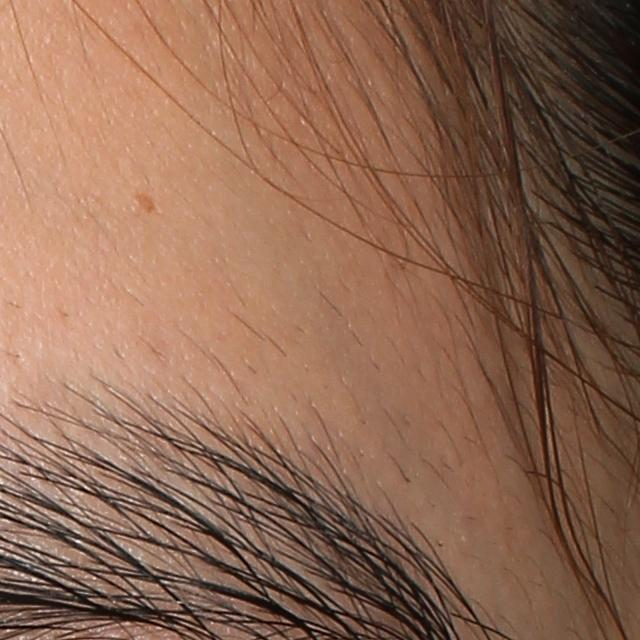melasma: (133, 191, 165, 218)
